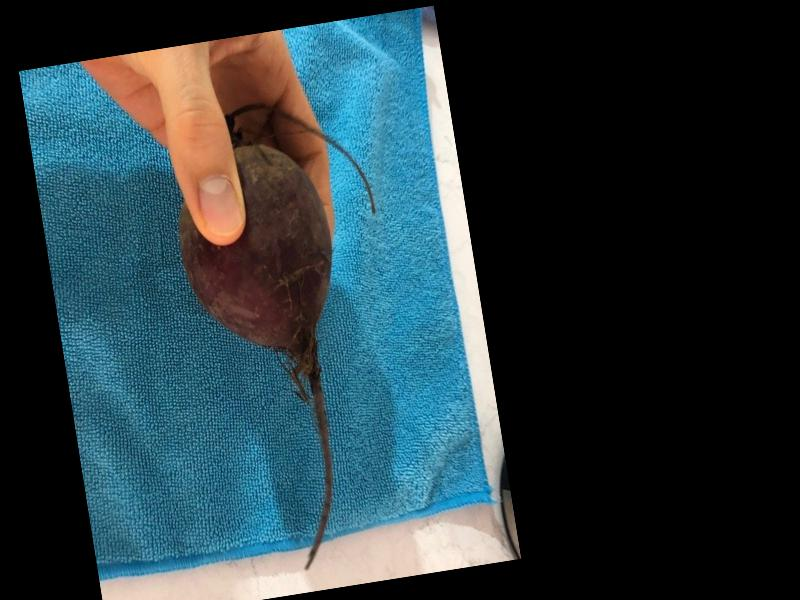Beet: (159, 89, 428, 583)
